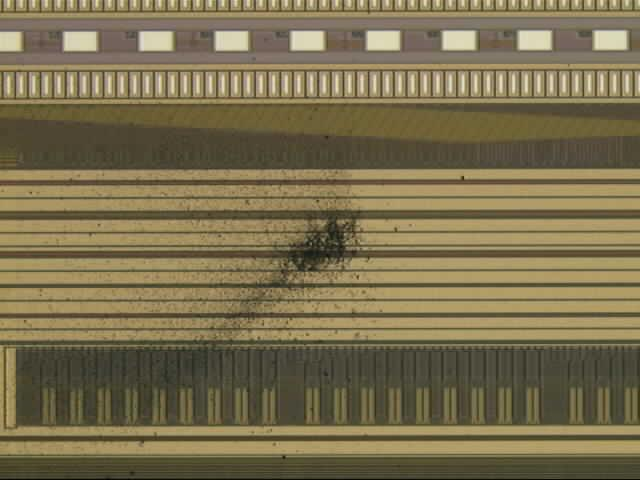PO CONTAMINATION: (1, 131, 472, 480)
